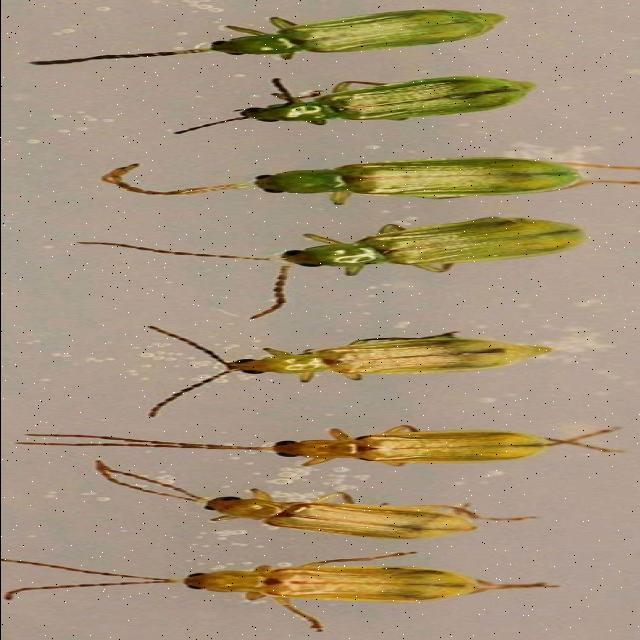gusano_gris: (75, 218, 588, 320), (0, 552, 564, 632), (141, 327, 548, 418), (94, 461, 540, 540), (26, 10, 502, 66), (107, 158, 640, 206), (16, 428, 622, 466), (172, 76, 538, 134)
